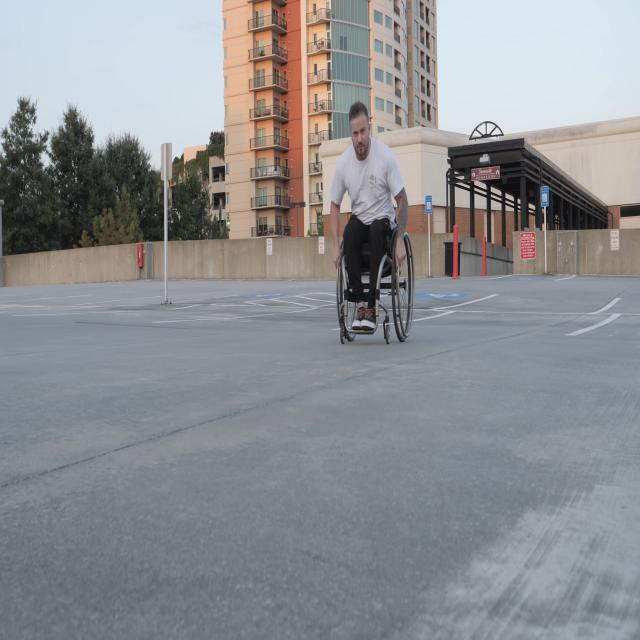wheelchairs: (335, 183, 416, 347)
